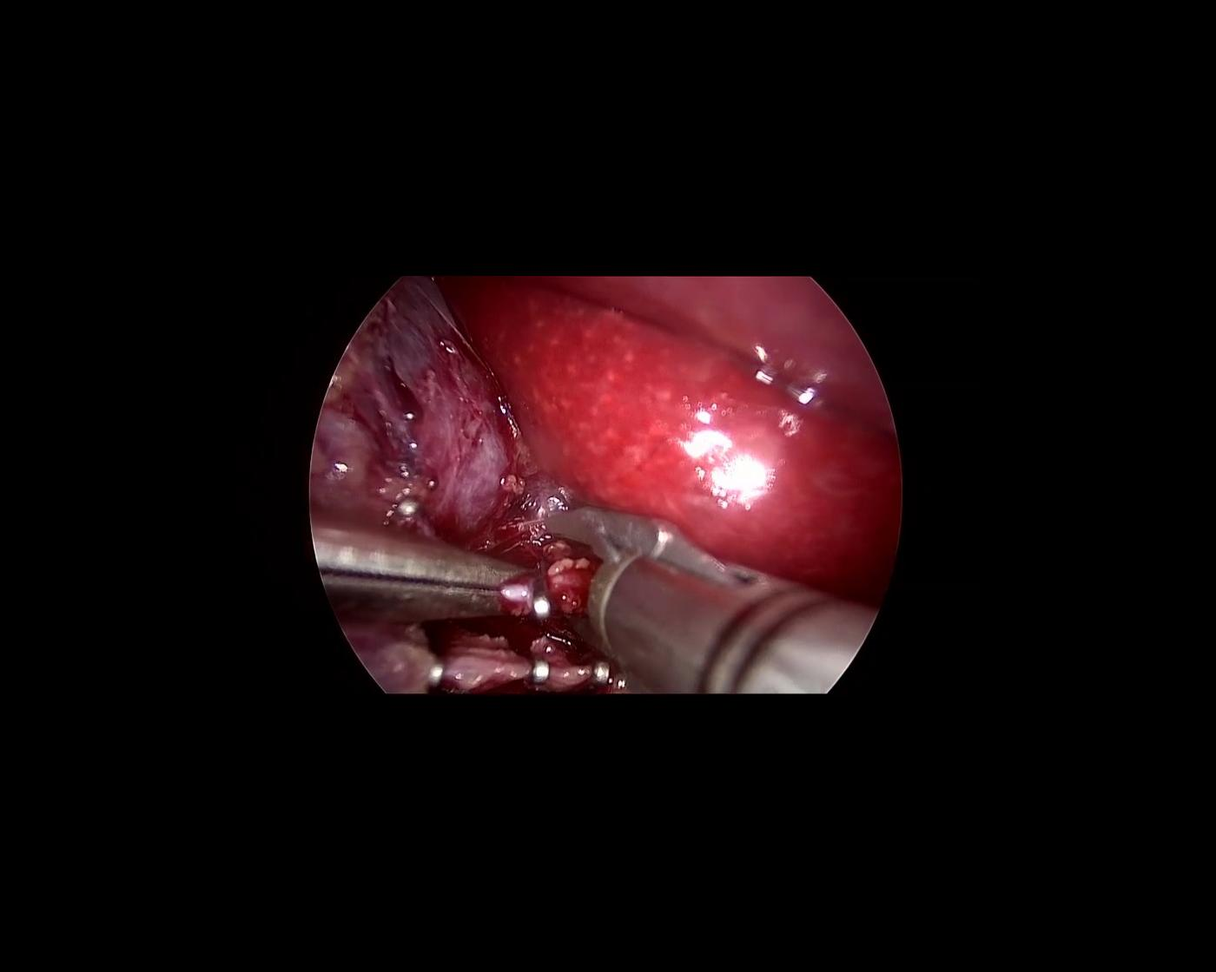Forceps: (290, 515, 545, 662)
Gallbladder: (301, 262, 541, 555)
Liver: (444, 279, 903, 601)
